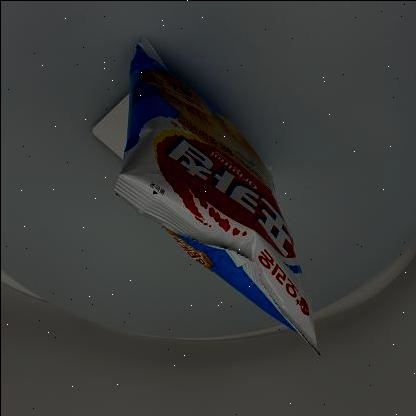Others: (69, 25, 329, 371)
